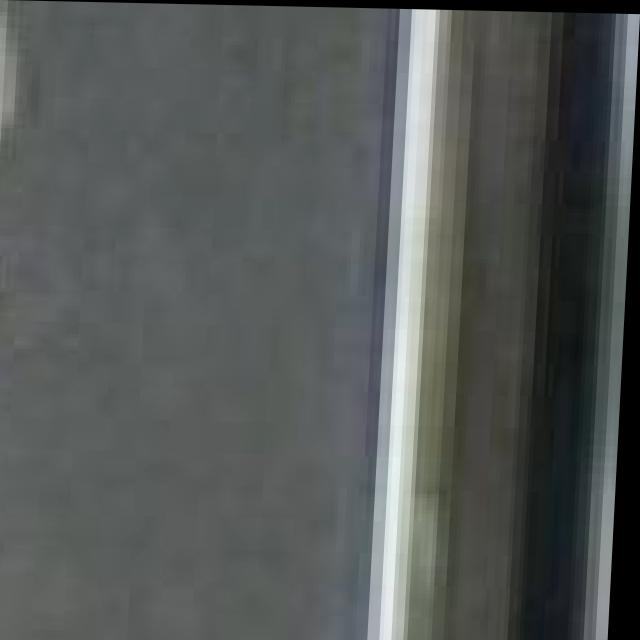inductor: (0, 0, 568, 640)
